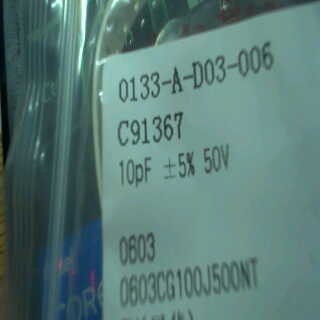10pF: (116, 151, 153, 190)
